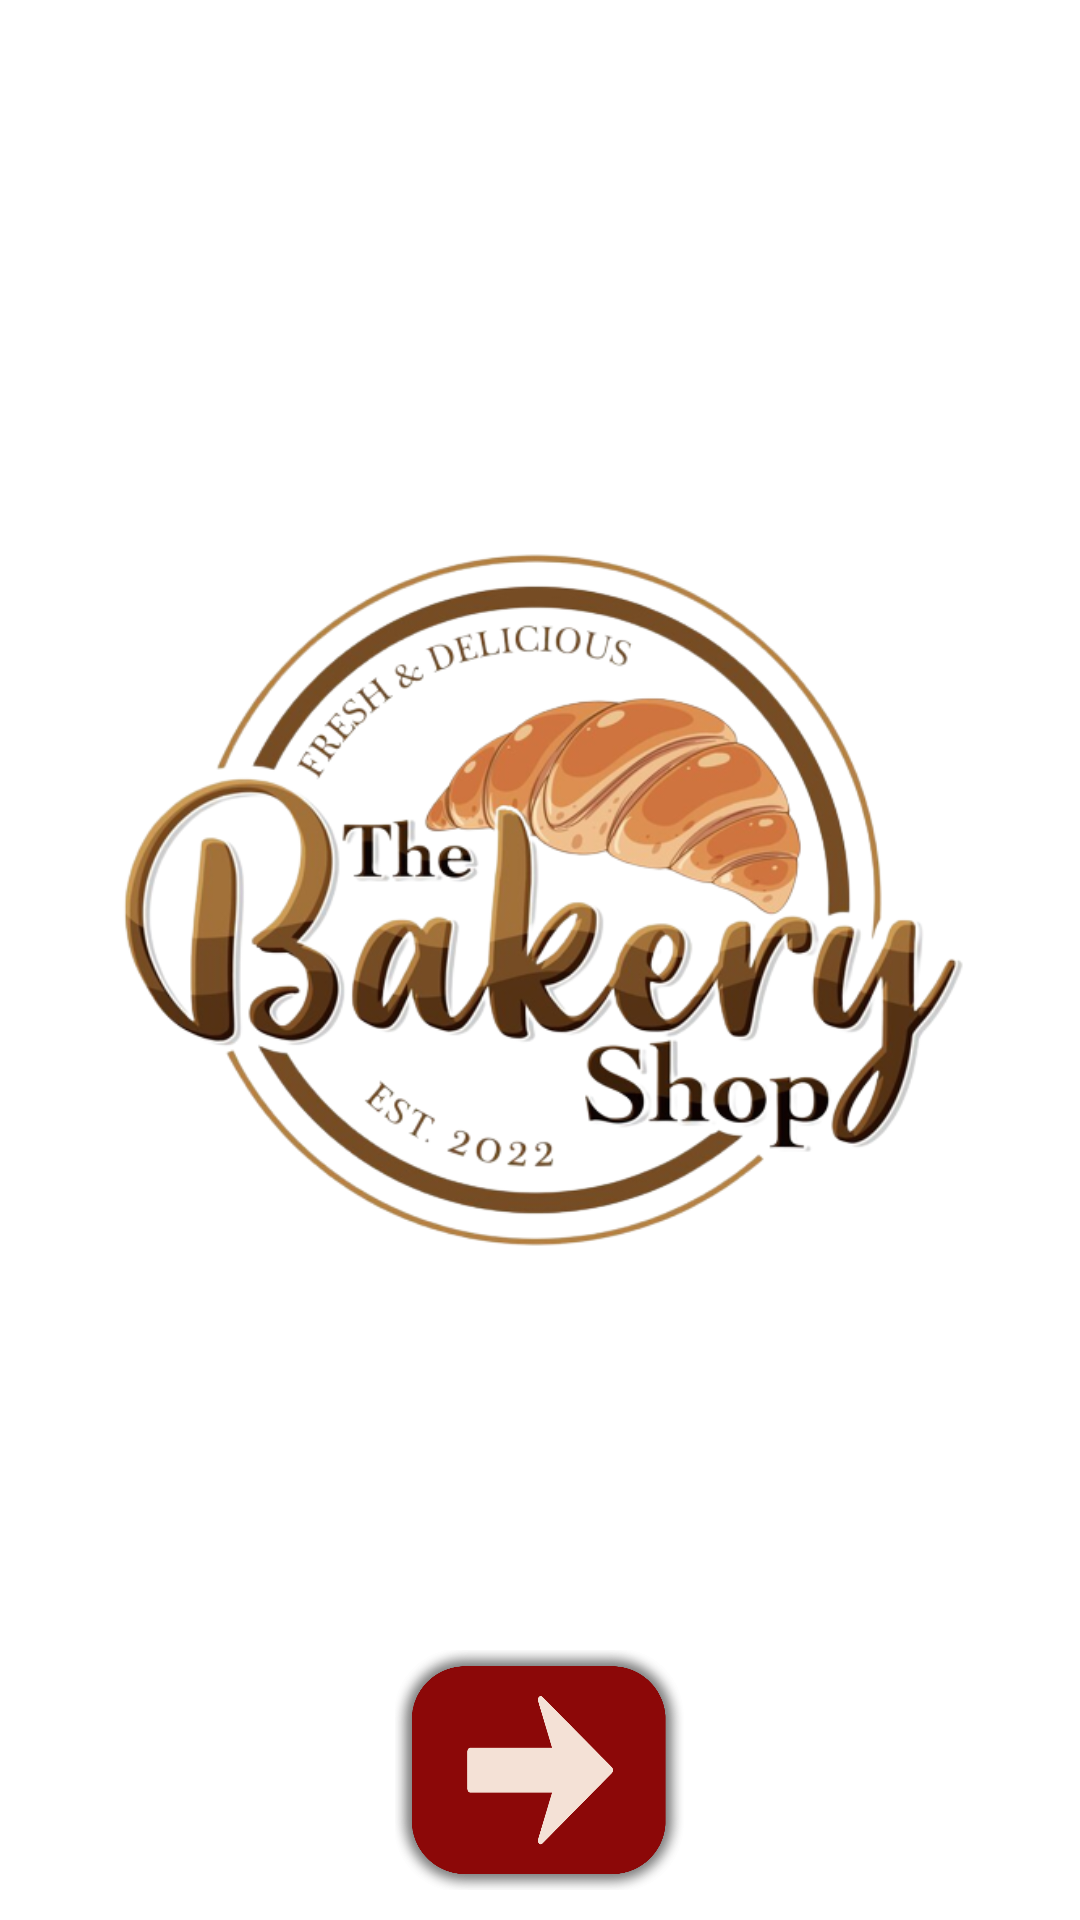

Screen size 1080px x 1920px. Icon name, then its center in pixels as [x,y]:
nextbutton: [539,1770]
